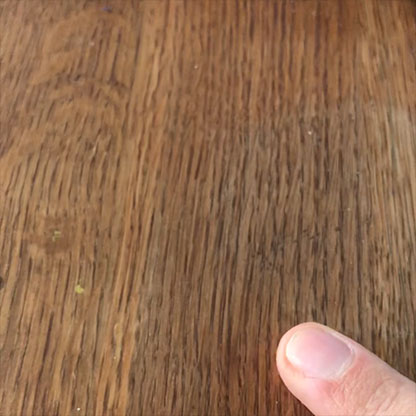fingertip: (263, 308, 376, 413)
